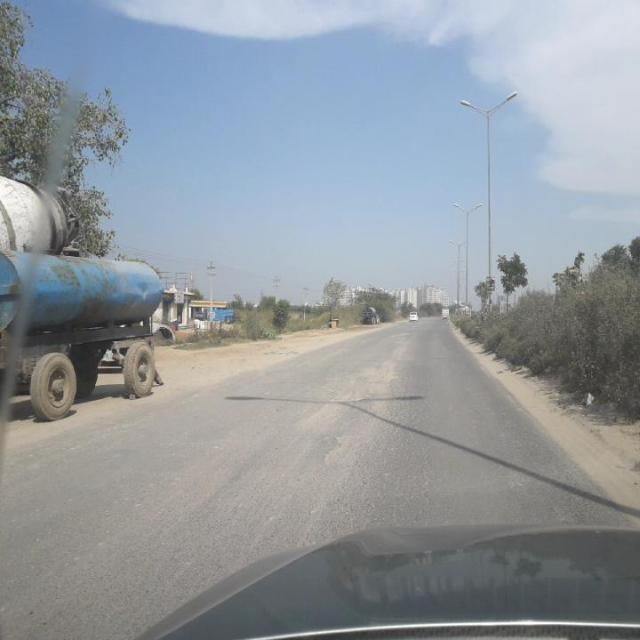D20: (218, 368, 467, 531)
D40: (297, 354, 396, 426), (316, 431, 372, 468)
